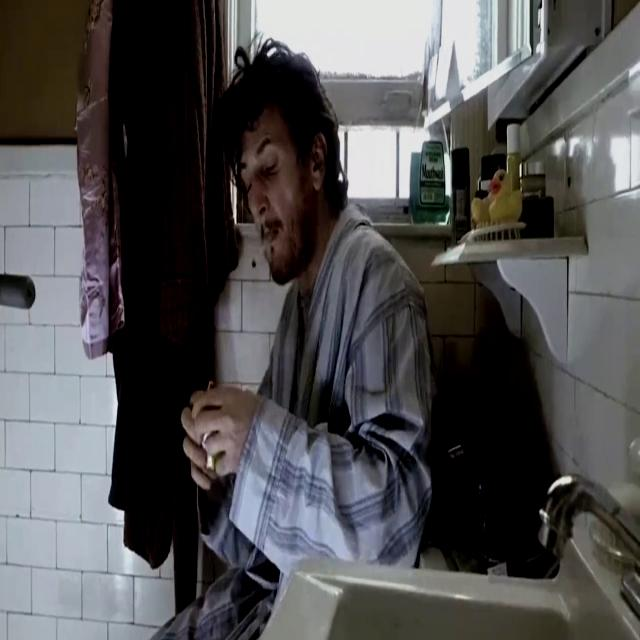Smooking: (247, 228, 277, 286)
